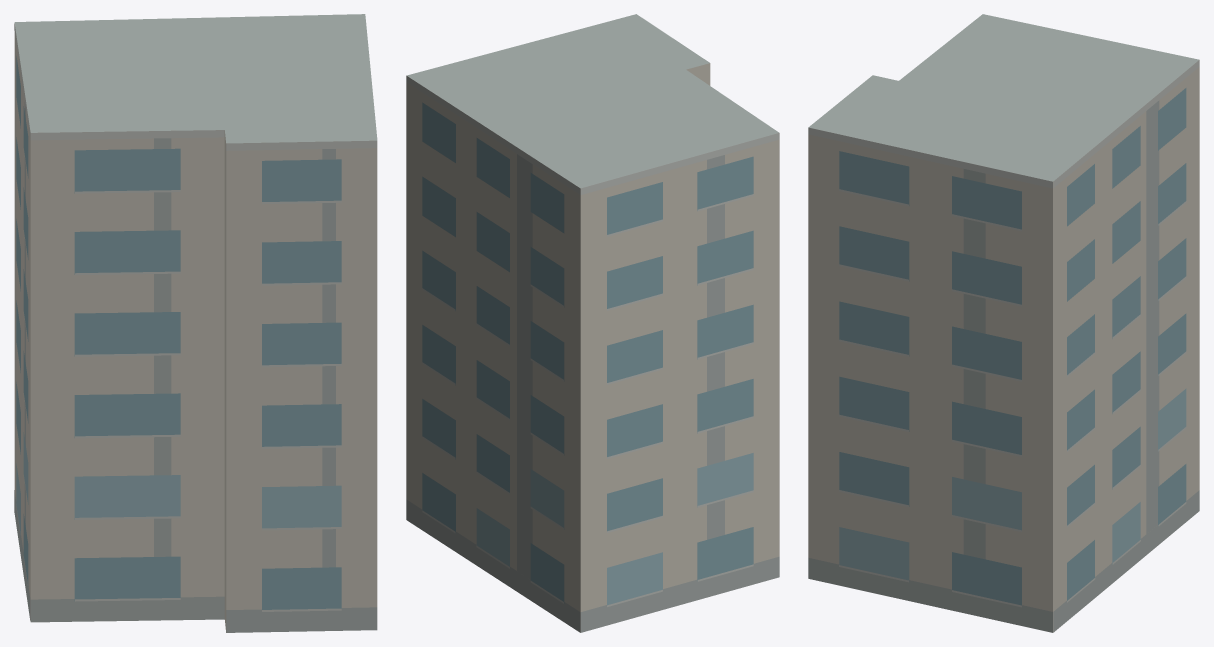
File: survey-upis-32802811.glb
The picture shows the model from 3 angles, left to right: view 1: azimuth 30°, elevation 25°; view 2: azimuth 150°, elevation 25°; view 3: azimuth 270°, elevation 25°; orthographic projection. The views are drawn at different scales.
Visible parts, largest first — view 1: survey-upis-32802811.tmp; view 2: survey-upis-32802811.tmp; view 3: survey-upis-32802811.tmp.
Boxes of the visible parts, <box> form: survey-upis-32802811.tmp: <box>14,14,377,632</box>; survey-upis-32802811.tmp: <box>406,14,779,632</box>; survey-upis-32802811.tmp: <box>808,14,1199,632</box>.
Bounding box in the file's own units: 12.84 × 16.1 × 12.67.
